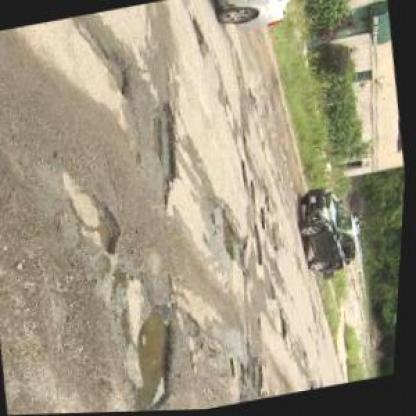pothole: (119, 301, 196, 412), (62, 172, 132, 266), (142, 100, 194, 209), (102, 50, 134, 101), (218, 208, 245, 265)
